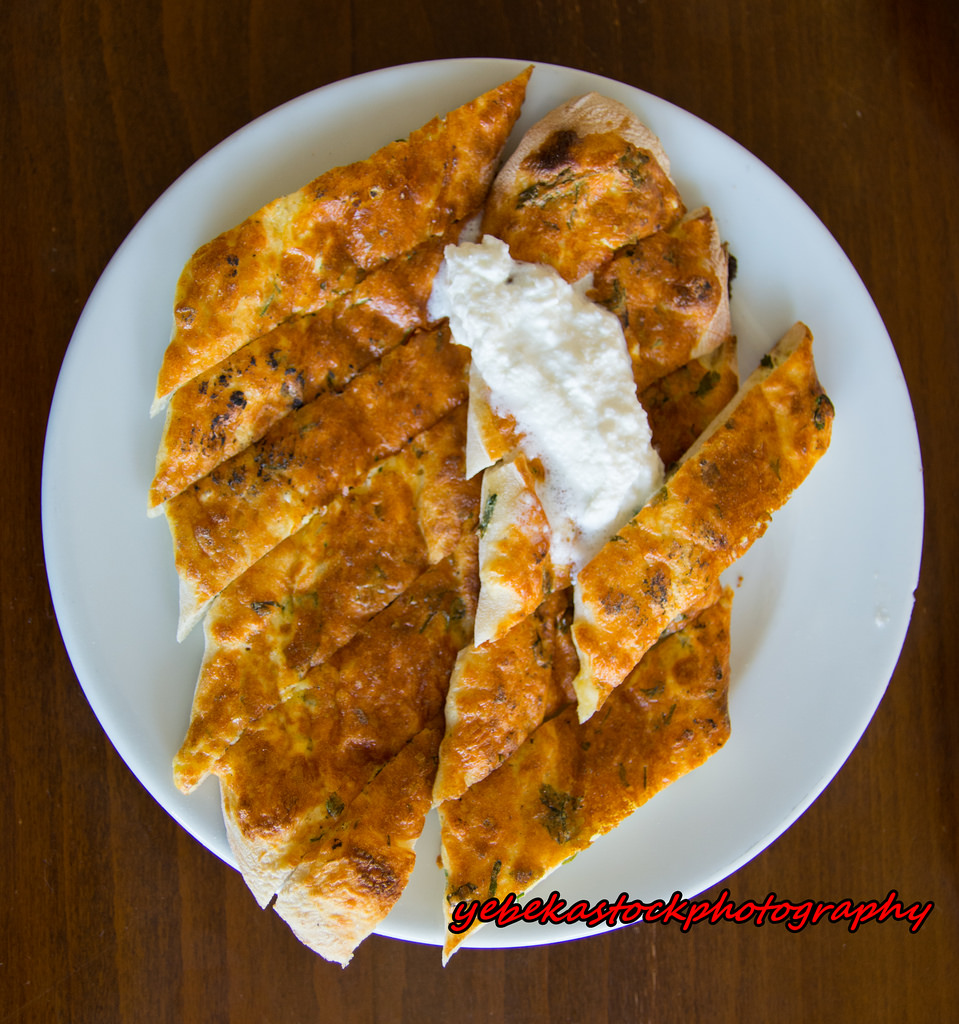slice of bread: (211, 238, 438, 867)
